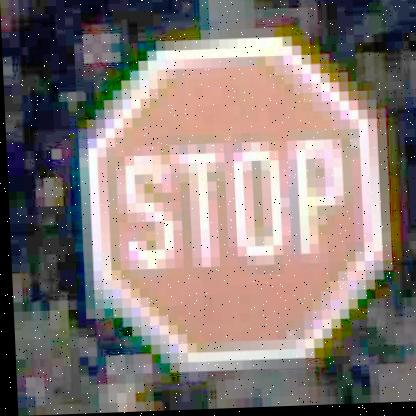Stop Sign: (75, 37, 388, 370)
